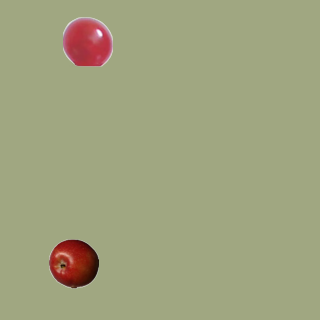Apple Braeburn: (48, 238, 98, 288)
Redcurrant: (62, 16, 112, 66)
